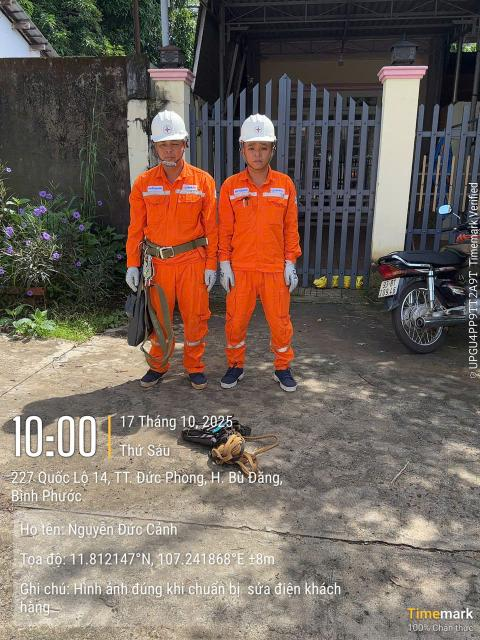gloves: (278, 248, 307, 295), (216, 253, 242, 297), (117, 263, 143, 297), (199, 259, 215, 314)
harness: (123, 232, 215, 255)
helmet: (142, 107, 197, 144), (229, 115, 283, 152)
shoes: (217, 357, 257, 398), (134, 363, 174, 397), (182, 362, 212, 396), (271, 362, 299, 398)
